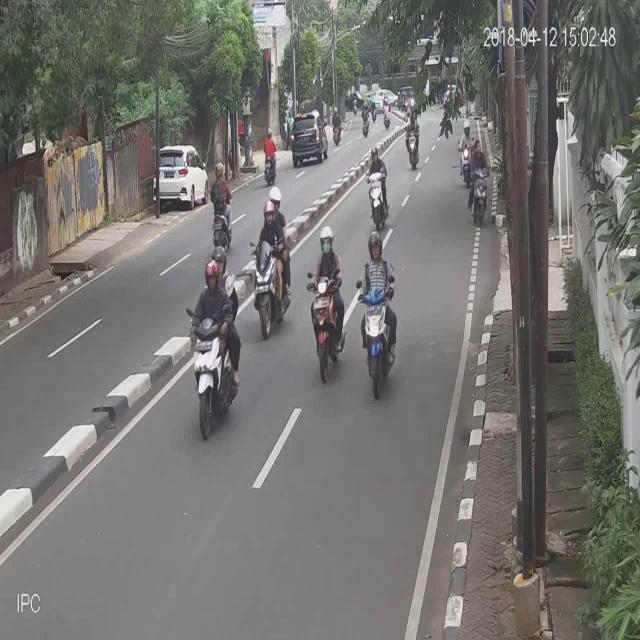bus: (184, 244, 244, 441), (356, 228, 398, 399), (248, 181, 292, 339), (306, 224, 346, 385), (206, 157, 233, 248), (467, 139, 491, 230), (365, 138, 389, 228), (262, 124, 276, 183), (405, 113, 419, 171)
motorcycle: (153, 137, 209, 211), (290, 108, 328, 166)
